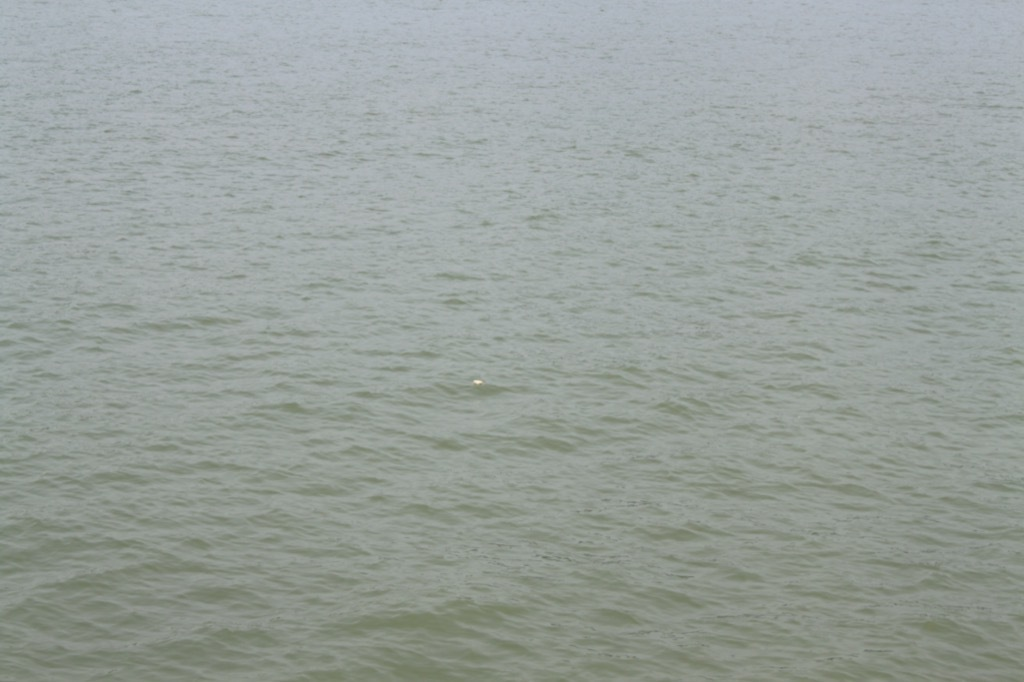plastic: (463, 372, 489, 391)
